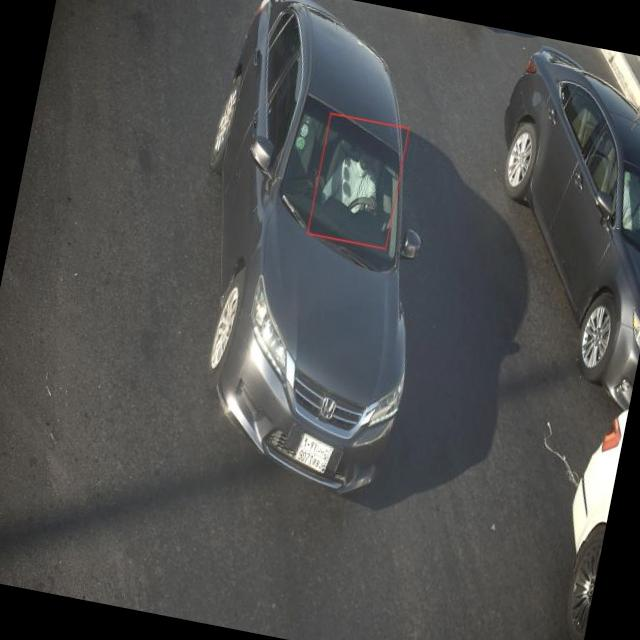person_with_seatbelt: (620, 183, 640, 238)
person_without_seatbelt: (314, 144, 404, 242)
